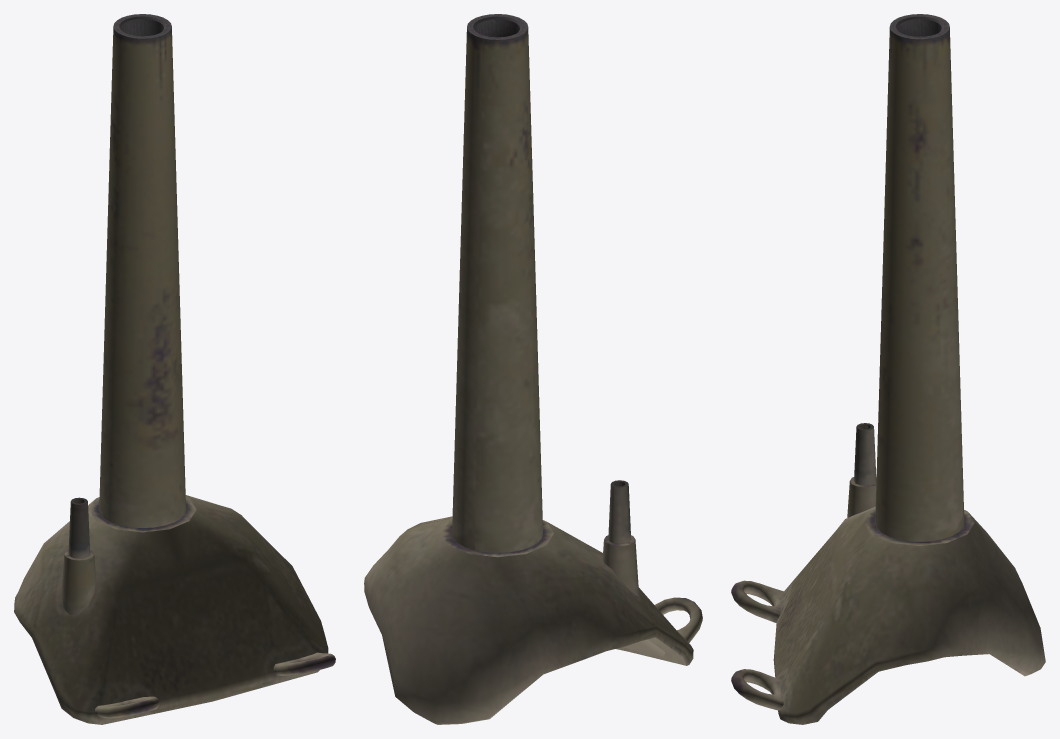
The model's file is Gun_05.glb.
The picture shows the model from 3 angles, left to right: view 1: azimuth 30°, elevation 25°; view 2: azimuth 150°, elevation 25°; view 3: azimuth 270°, elevation 25°; orthographic projection. The views are drawn at different scales.
Parts seen in each view (by area): view 1: set_0_group_0; view 2: set_0_group_0; view 3: set_0_group_0.
Part boxes in pixels (x1,y1,x2,y2): set_0_group_0: (14,14,335,724); set_0_group_0: (364,14,702,724); set_0_group_0: (731,14,1045,724).
Size of the model in its own units: 0.7462 by 1.68 by 0.7505.
1 material, 1 textured.
